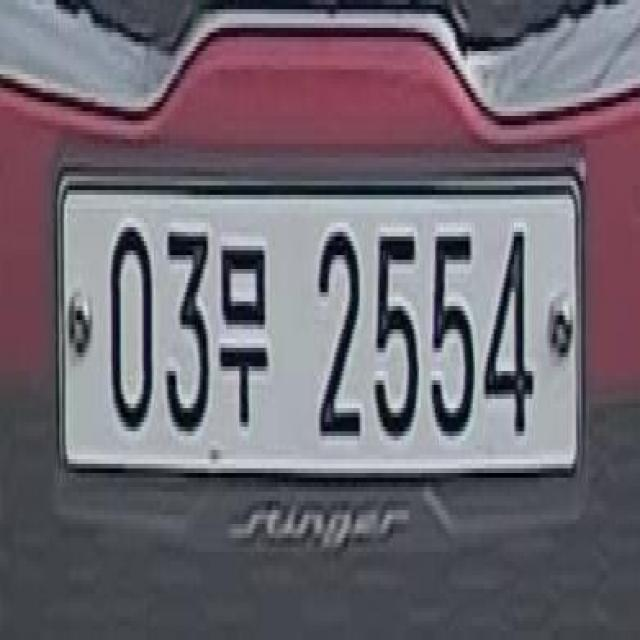illegal_plate: (60, 150, 593, 561)
